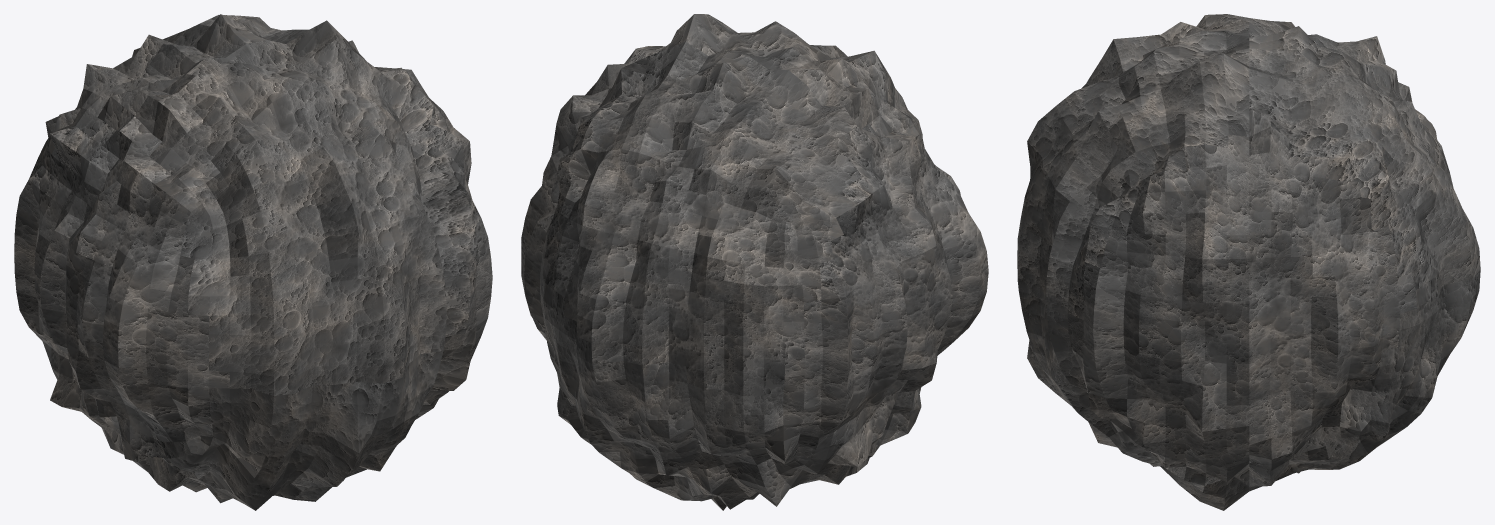
The model's file is asteroid46.obj.
3 views of the same model, side by side, from view 1: azimuth 30°, elevation 25°; view 2: azimuth 150°, elevation 25°; view 3: azimuth 270°, elevation 25° (orthographic).
Visible parts, largest first — view 1: Cube_Cube.002; view 2: Cube_Cube.002; view 3: Cube_Cube.002.
Part boxes in pixels (bbox=[...]): Cube_Cube.002: bbox=[14, 14, 492, 510]; Cube_Cube.002: bbox=[521, 14, 988, 510]; Cube_Cube.002: bbox=[1017, 14, 1480, 510].
Size of the model in its own units: 1.75 by 1.98 by 1.82.
